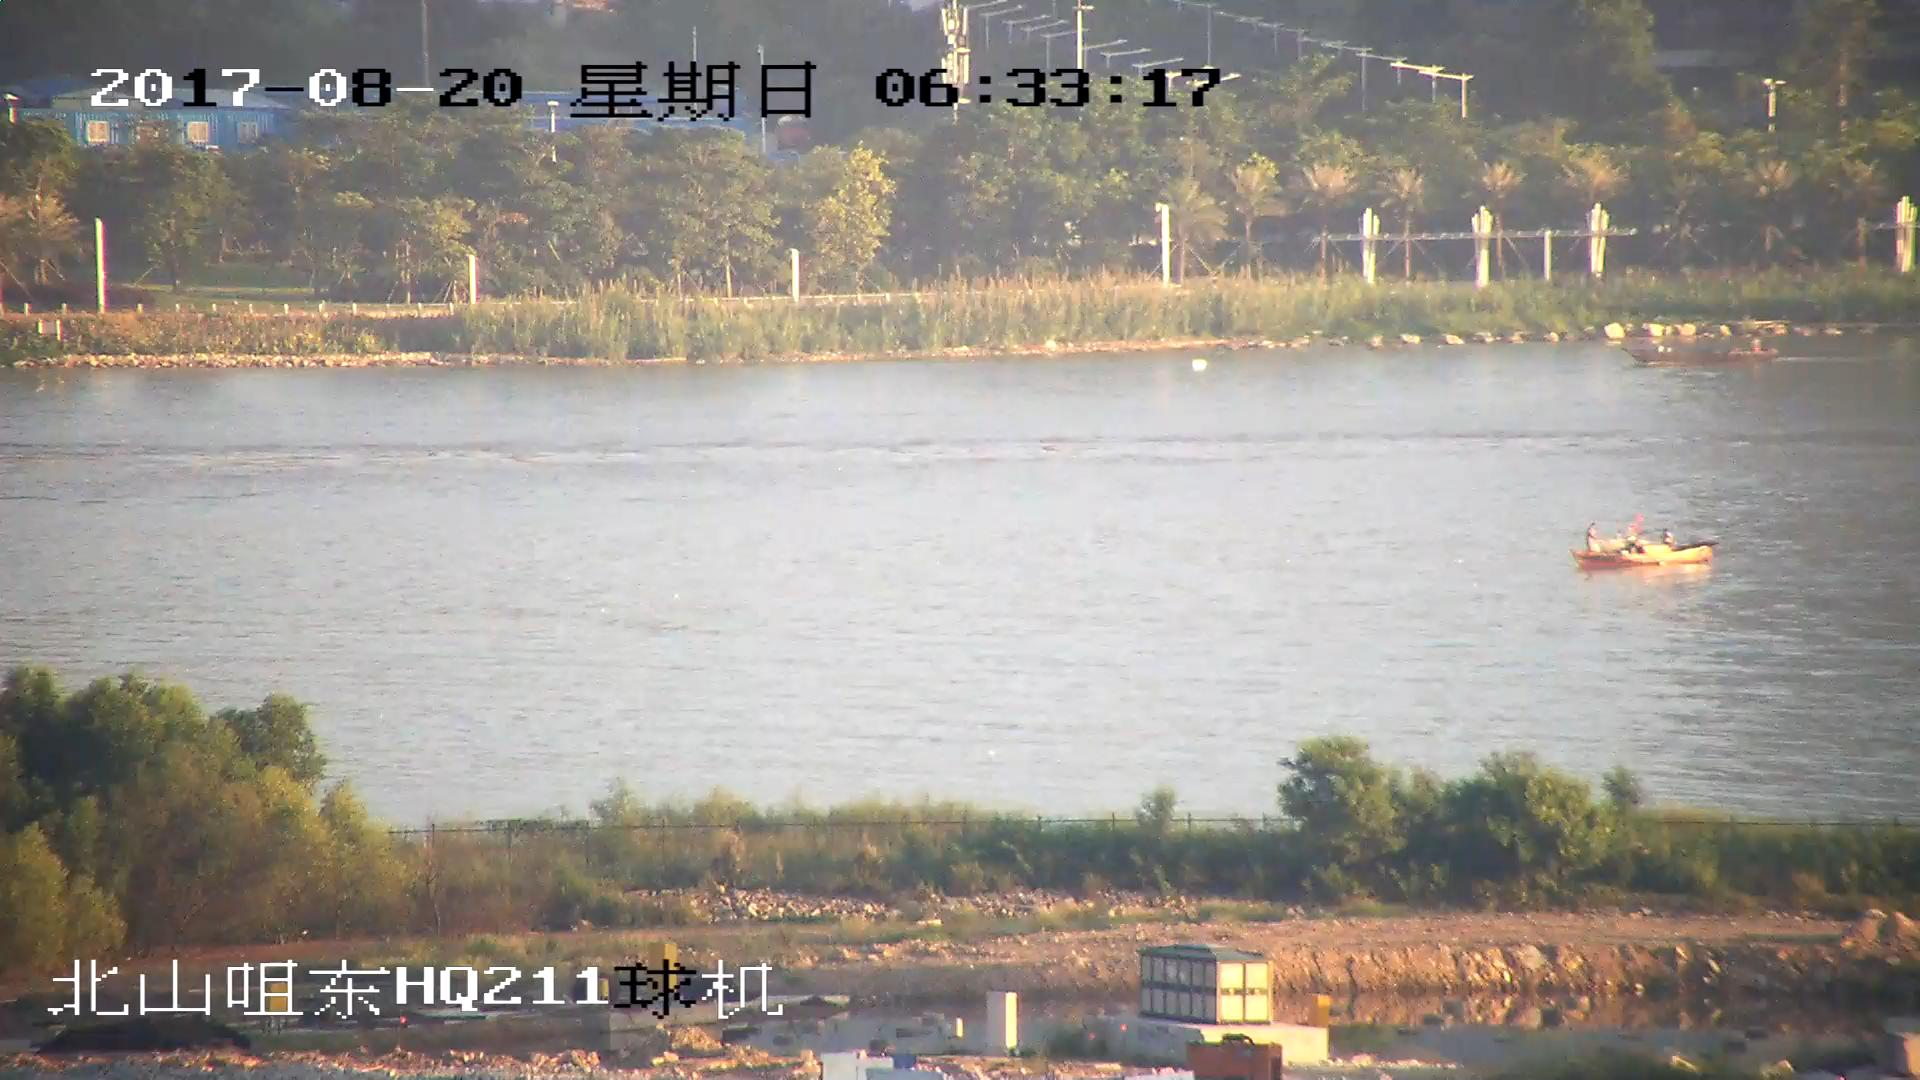fishing boat: (1575, 520, 1713, 570), (1628, 336, 1792, 365)
